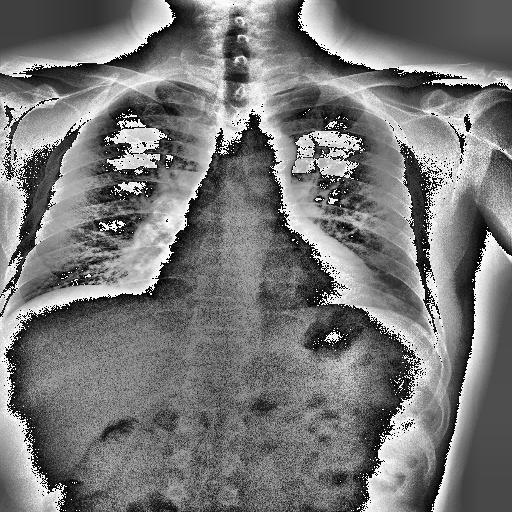0- Aortic enlargement: (243, 130, 297, 176)
3- Cardiomegaly: (144, 242, 378, 312), (142, 245, 384, 310), (144, 260, 378, 318)
